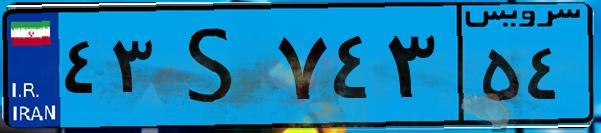3: (385, 28, 445, 110), (110, 28, 158, 98)
4: (330, 28, 385, 110), (57, 26, 110, 100), (525, 38, 570, 115)
5: (475, 38, 525, 113)
7: (270, 28, 330, 110)
S: (158, 12, 270, 120)
